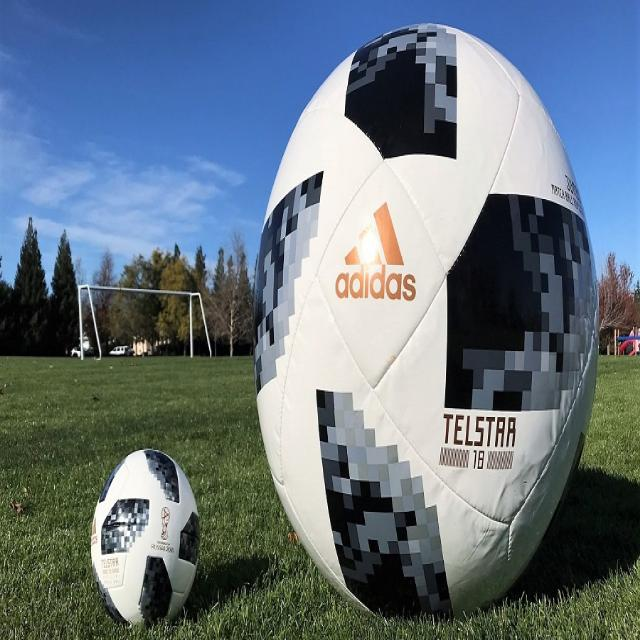soccer ball: (256, 23, 599, 617), (91, 447, 200, 630)
